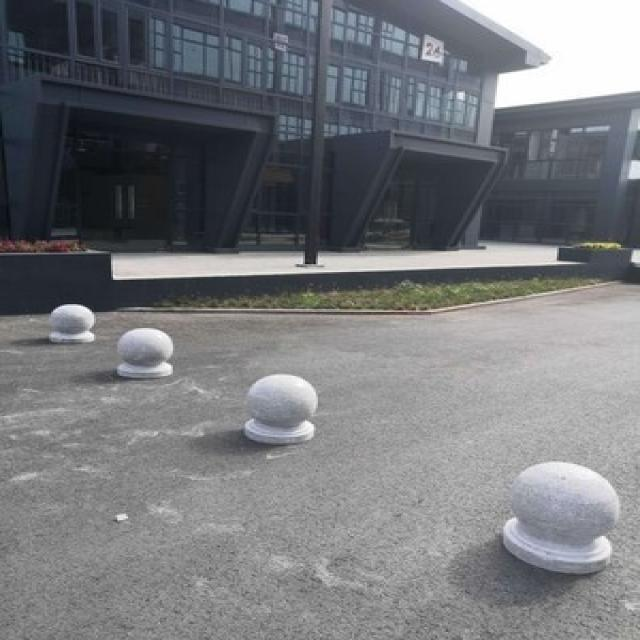spherical_roadblock: (501, 458, 619, 576), (237, 371, 318, 445), (117, 324, 173, 378), (45, 300, 94, 342)
